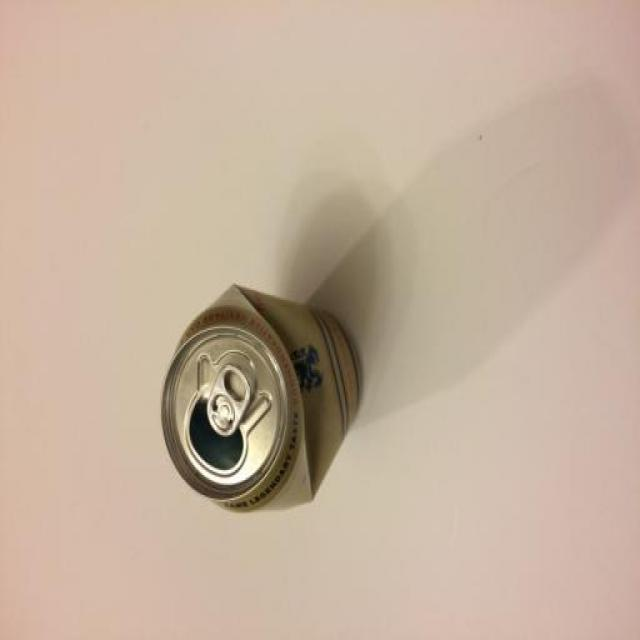metel: (125, 262, 395, 590)
